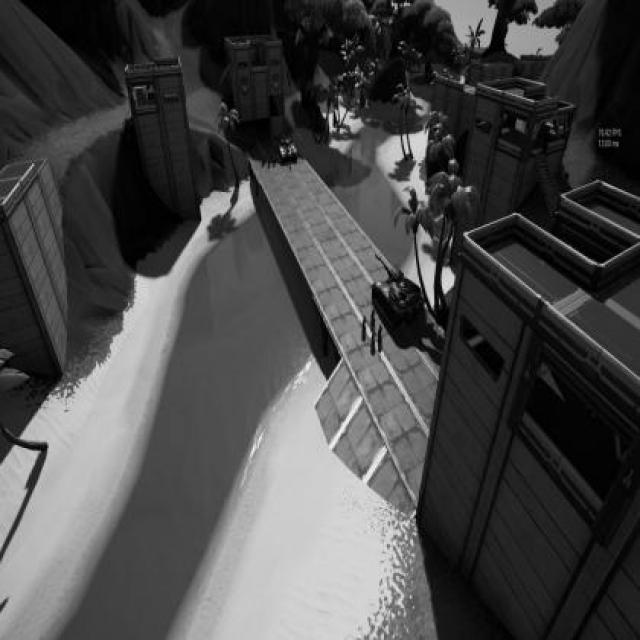tank: (372, 253, 425, 332), (276, 132, 297, 162)
